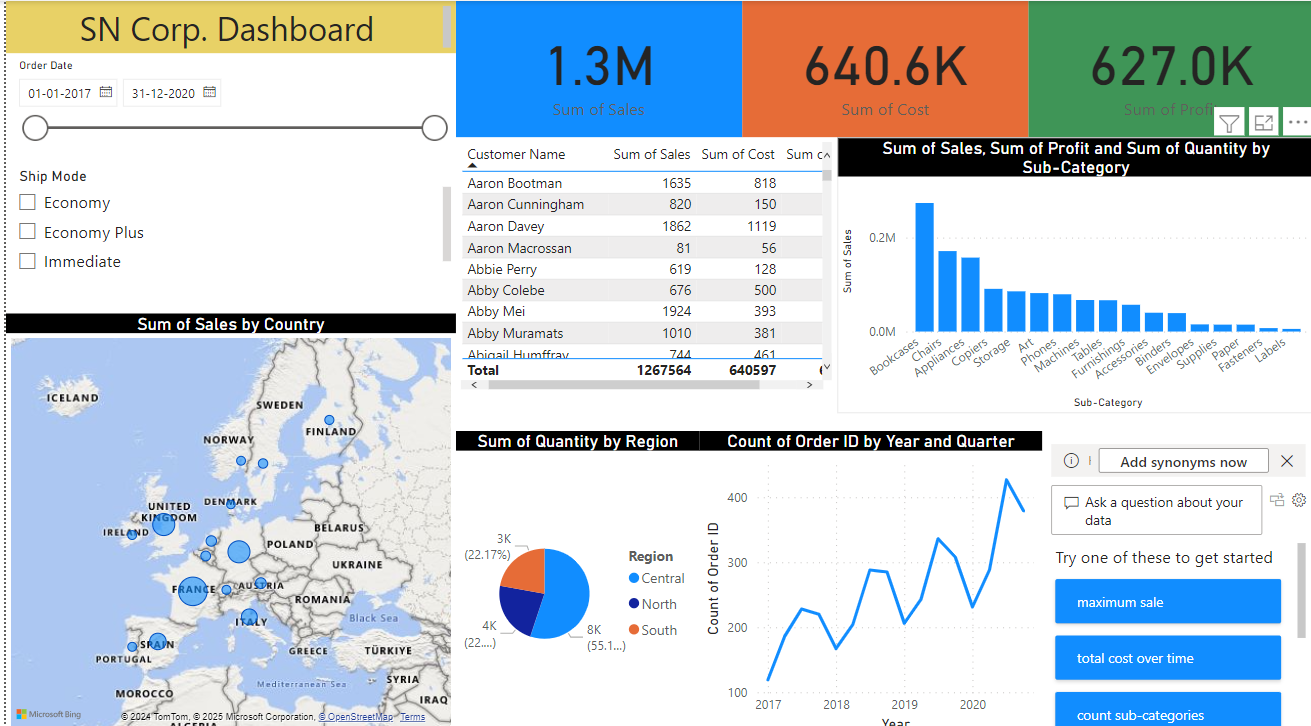

What the dashboard file says about the page in this screenshot:
{"tool":"powerbi","page":{"name":"Page 1","canvas":[1280,720],"ordinal":0},"visuals":[{"type":"card","fields":{"Values":["List of Orders.Sales"]},"box":[440,0,280,133.8],"z":0},{"type":"card","fields":{"Values":["List of Orders.Cost"]},"box":[720,0,280,133.8],"z":1000},{"type":"card","fields":{"Values":["List of Orders.Profit"]},"box":[1000,0,280,133.8],"z":2000},{"type":"tableEx","fields":{"Values":["List of Orders.Customer Name","List of Orders.Sales","List of Orders.Cost","List of Orders.Profit"]},"box":[440,133.8,372.5,251.2],"z":3000},{"type":"clusteredColumnChart","fields":{"Y":["List of Orders.Sales"],"Category":["List of Orders.Sub-Category"]},"box":[812.5,133.8,467.5,270],"z":4000},{"type":"lineChart","fields":{"Y":["List of Orders.Order ID"],"Category":["List of Orders.Order Date.Variation.Date Hierarchy.Year","List of Orders.Order Date.Variation.Date Hierarchy.Quarter"]},"box":[678.4,420.5,334.9,299.5],"z":5000},{"type":"pieChart","fields":{"Y":["List of Orders.Quantity"],"Category":["List of Orders.Region"]},"box":[440.1,420.5,238.4,299.5],"z":6000},{"type":"map","fields":{"Category":["List of Orders.Country"],"Size":["List of Orders.Sales"]},"box":[0,305,440,411.2],"z":7000},{"type":"textbox","box":[0,0,440,51.2],"z":8000},{"type":"slicer","fields":{"Values":["List of Orders.Ship Mode"]},"box":[0,157.5,440,121.2],"z":9000},{"type":"slicer","fields":{"Values":["List of Orders.Order Date"]},"box":[0,51.2,440,106.2],"z":10000},{"type":"qnaVisual","box":[1013.4,420.5,266.5,299.5],"z":11000}]}

Visuals, with their boxes on the page's 1280x720 design canvas (x1, y1, x2, y2). These are canvas units, not pixel positions in the 1311x726 screenshot, which may show the page scaled, cropped or inside an application window:
card - List of Orders.Sales: region(440, 0, 720, 134)
card - List of Orders.Cost: region(720, 0, 1000, 134)
card - List of Orders.Profit: region(1000, 0, 1280, 134)
tableEx - List of Orders.Customer Name x List of Orders.Sales: region(440, 134, 812, 385)
clusteredColumnChart - List of Orders.Sales x List of Orders.Sub-Category: region(812, 134, 1280, 404)
lineChart - List of Orders.Order ID x List of Orders.Order Date.Variation.Date Hierarchy.Year: region(678, 420, 1013, 720)
pieChart - List of Orders.Quantity x List of Orders.Region: region(440, 420, 678, 720)
map - List of Orders.Country x List of Orders.Sales: region(0, 305, 440, 716)
textbox: region(0, 0, 440, 51)
slicer - List of Orders.Ship Mode: region(0, 158, 440, 279)
slicer - List of Orders.Order Date: region(0, 51, 440, 157)
qnaVisual: region(1013, 420, 1280, 720)
